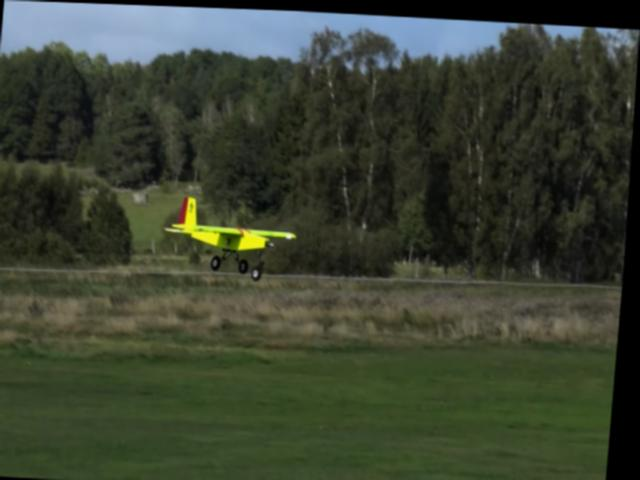plane: (161, 193, 302, 280)
